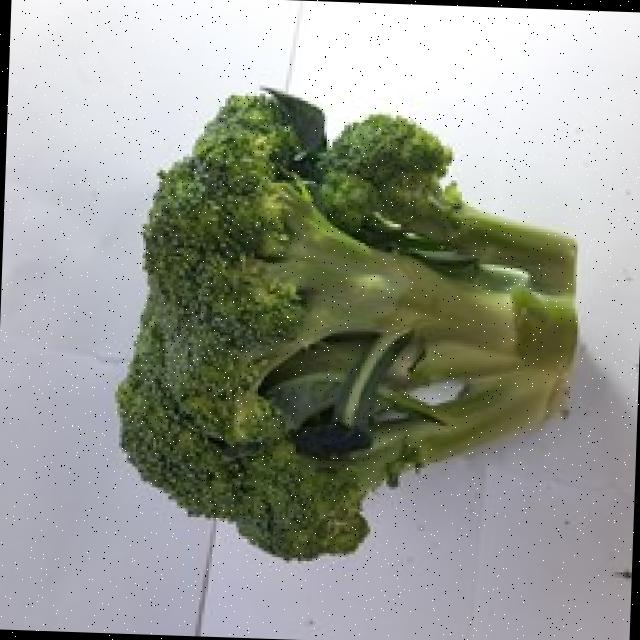Broccoli: (116, 90, 576, 552), (117, 94, 370, 558)
